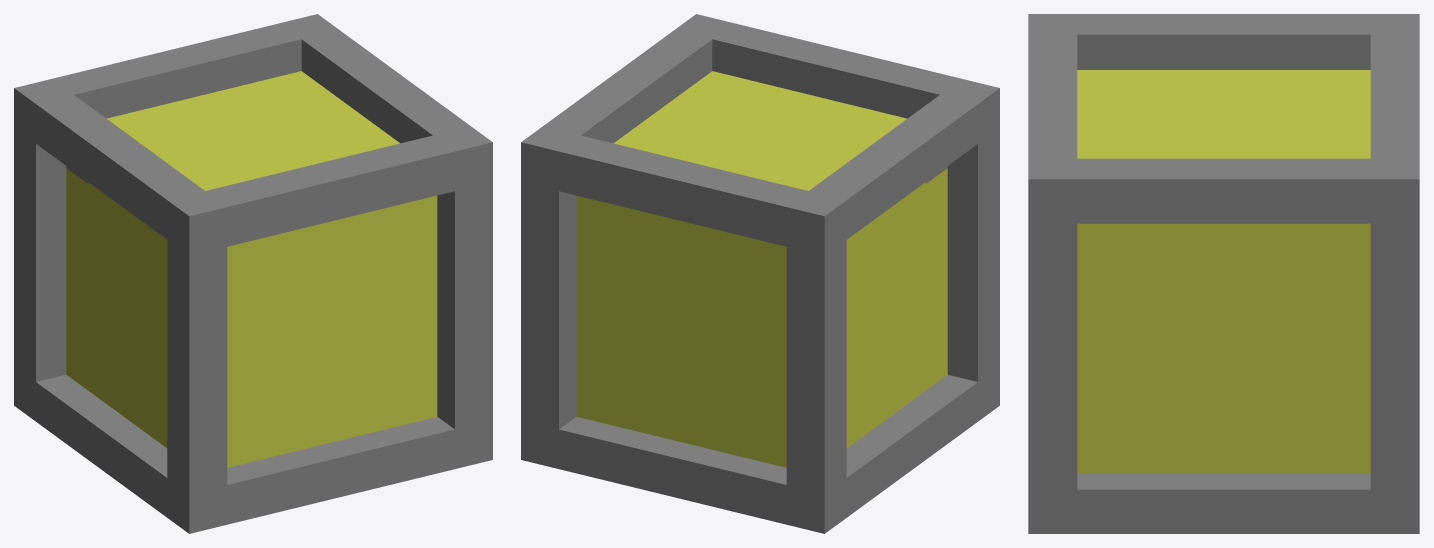
The model's file is yellow_powerup.fbx.
3 views of the same model, side by side, from view 1: azimuth 30°, elevation 25°; view 2: azimuth 150°, elevation 25°; view 3: azimuth 270°, elevation 25° (orthographic). The views are drawn at different scales.
Visible parts, largest first — view 1: Cube; view 2: Cube; view 3: Cube.
Part boxes in pixels (x1,y1,x2,y2): Cube: (14,14,492,533); Cube: (521,14,999,533); Cube: (1028,14,1419,533).
Size of the model in its own units: 200 by 200 by 200.
